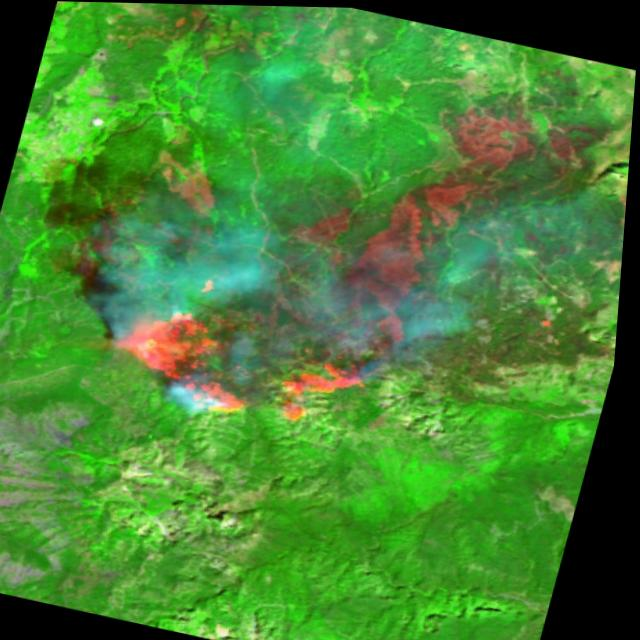fire: (83, 280, 393, 449)
